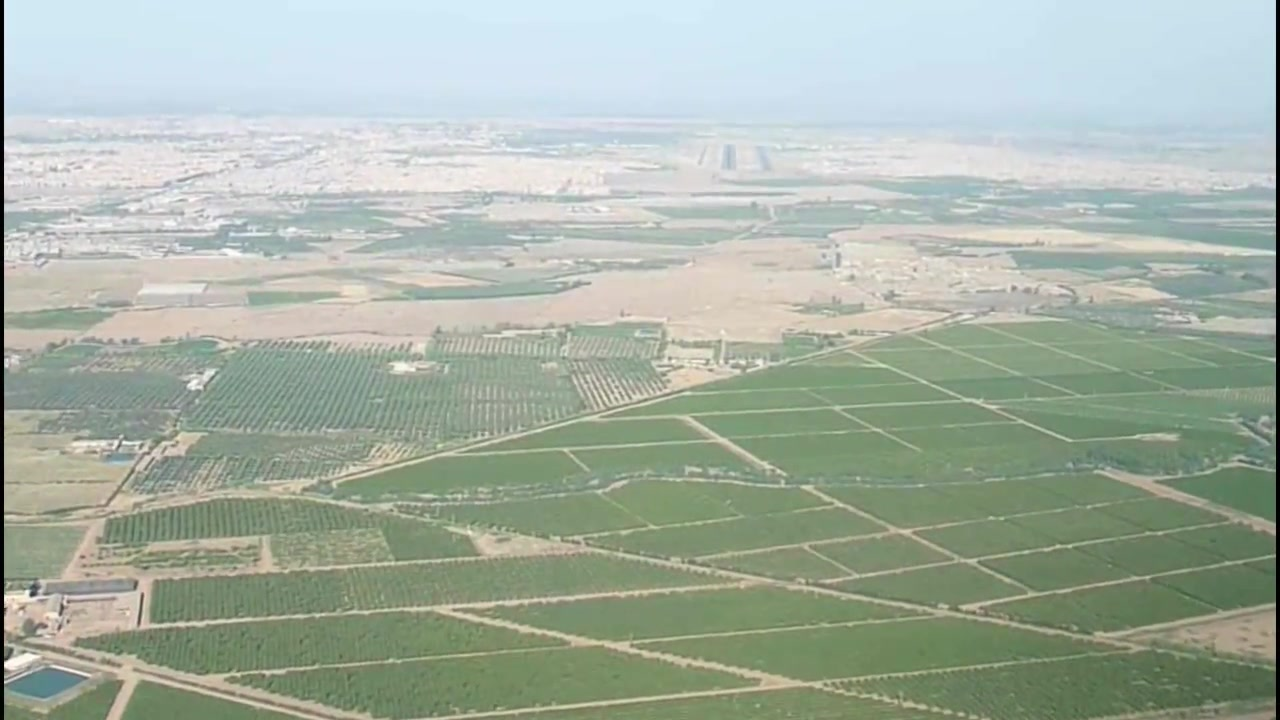runway: (720, 144, 740, 174)
